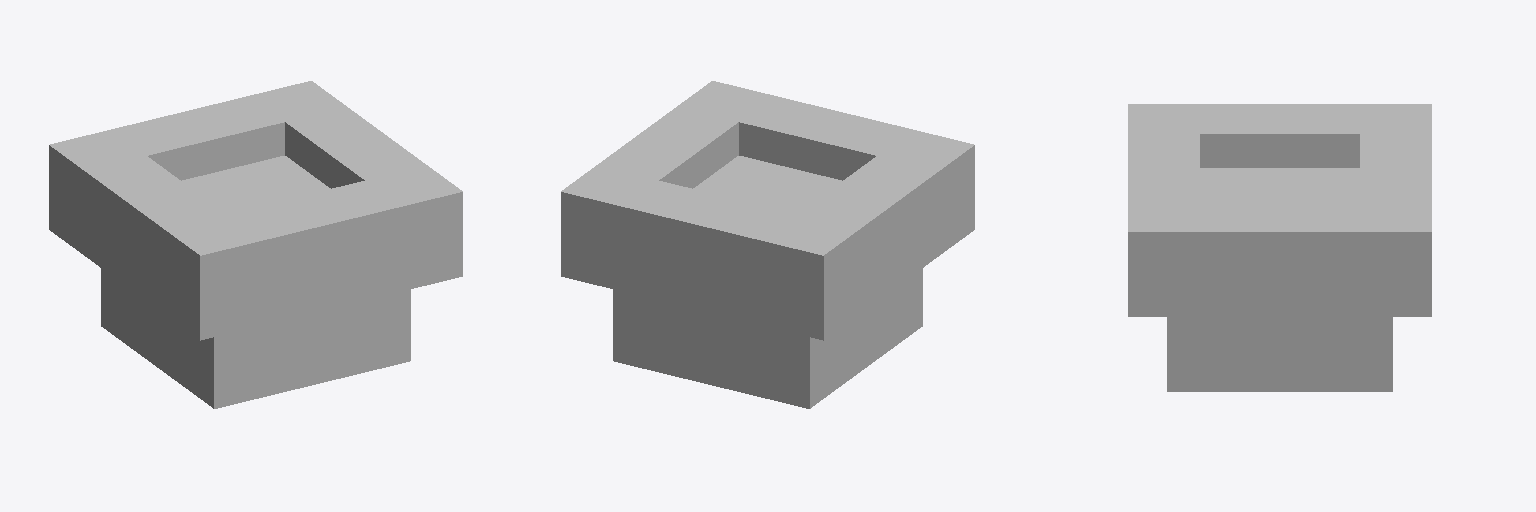
The model's file is roof2.obj.
3 views of the same model, side by side, from view 1: azimuth 30°, elevation 25°; view 2: azimuth 150°, elevation 25°; view 3: azimuth 270°, elevation 25° (orthographic).
Size of the model in its own units: 1.34 by 0.8543 by 1.34.